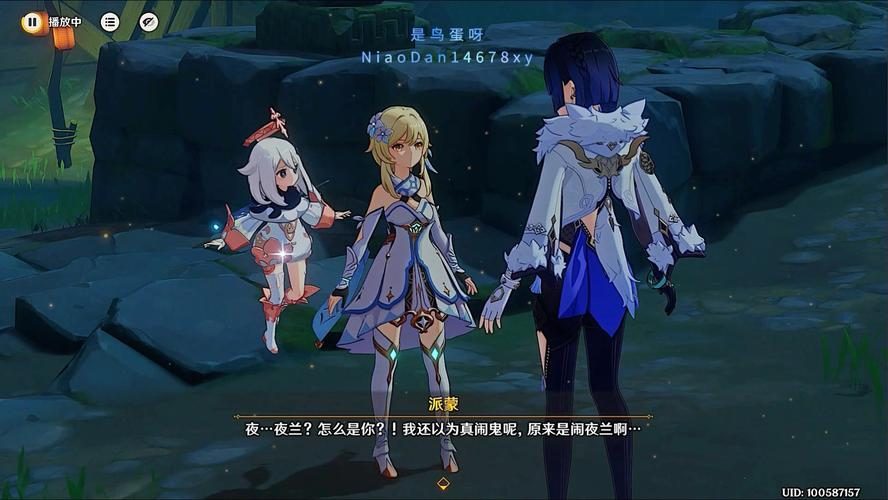夜兰: (482, 34, 704, 500)
